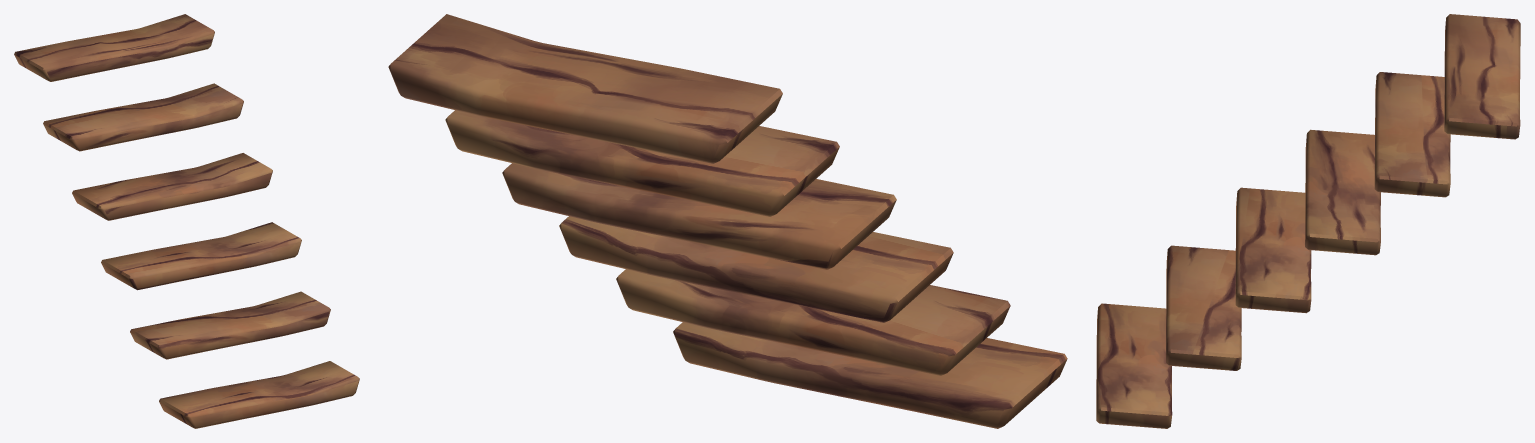
The model's file is Stairs.FBX.
3 renders of one model, left to right at view 1: azimuth 30°, elevation 25°; view 2: azimuth 150°, elevation 25°; view 3: azimuth 270°, elevation 25°, orthographic. The views are drawn at different scales.
Parts seen in each view (by area): view 1: Box016; view 2: Box016; view 3: Box016.
Part boxes in pixels (box(x1,y1,x2,y2)): Box016: box(14, 14, 359, 428); Box016: box(388, 14, 1067, 428); Box016: box(1096, 14, 1520, 428).
Bounding box in the file's own units: 81.4 × 120 × 144.
